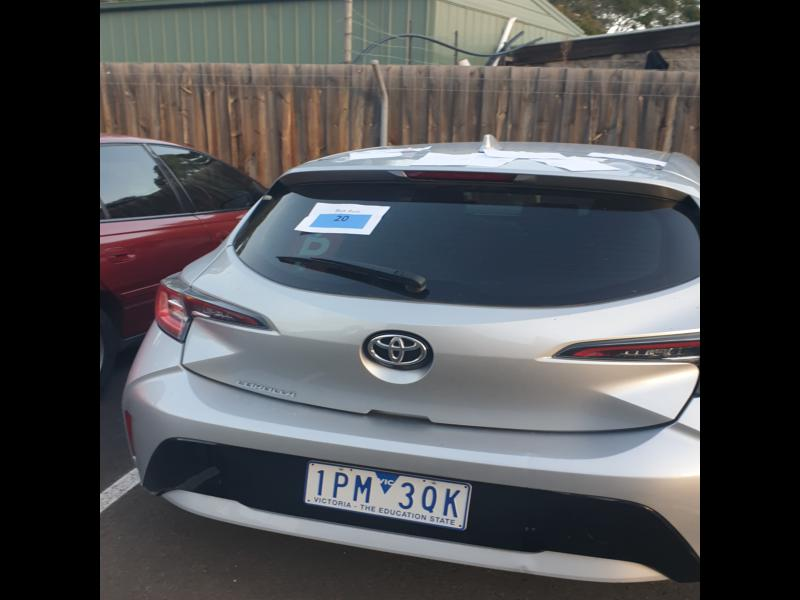BusRun: (307, 212, 375, 228)
PlateNo: (302, 459, 472, 530)
